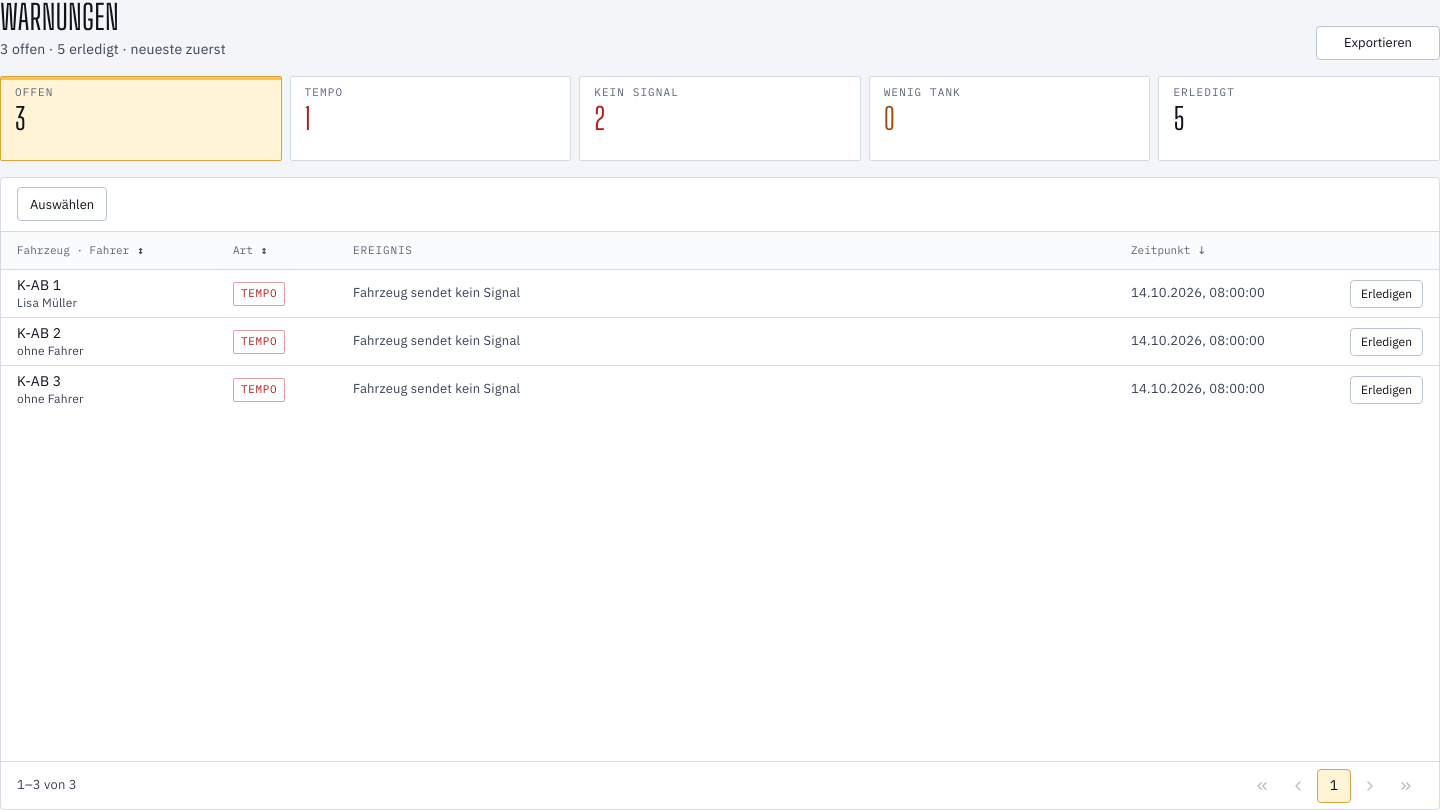
Test: alert list page › selects by row click in selection mode and resolves after confirm
Expected: the text "K-AB 1" is shown, top-left (17, 276), bottom-right (61, 294)
Click the button "Auswählen" at (62,204), box top-left (17, 187), bottom-right (107, 221)
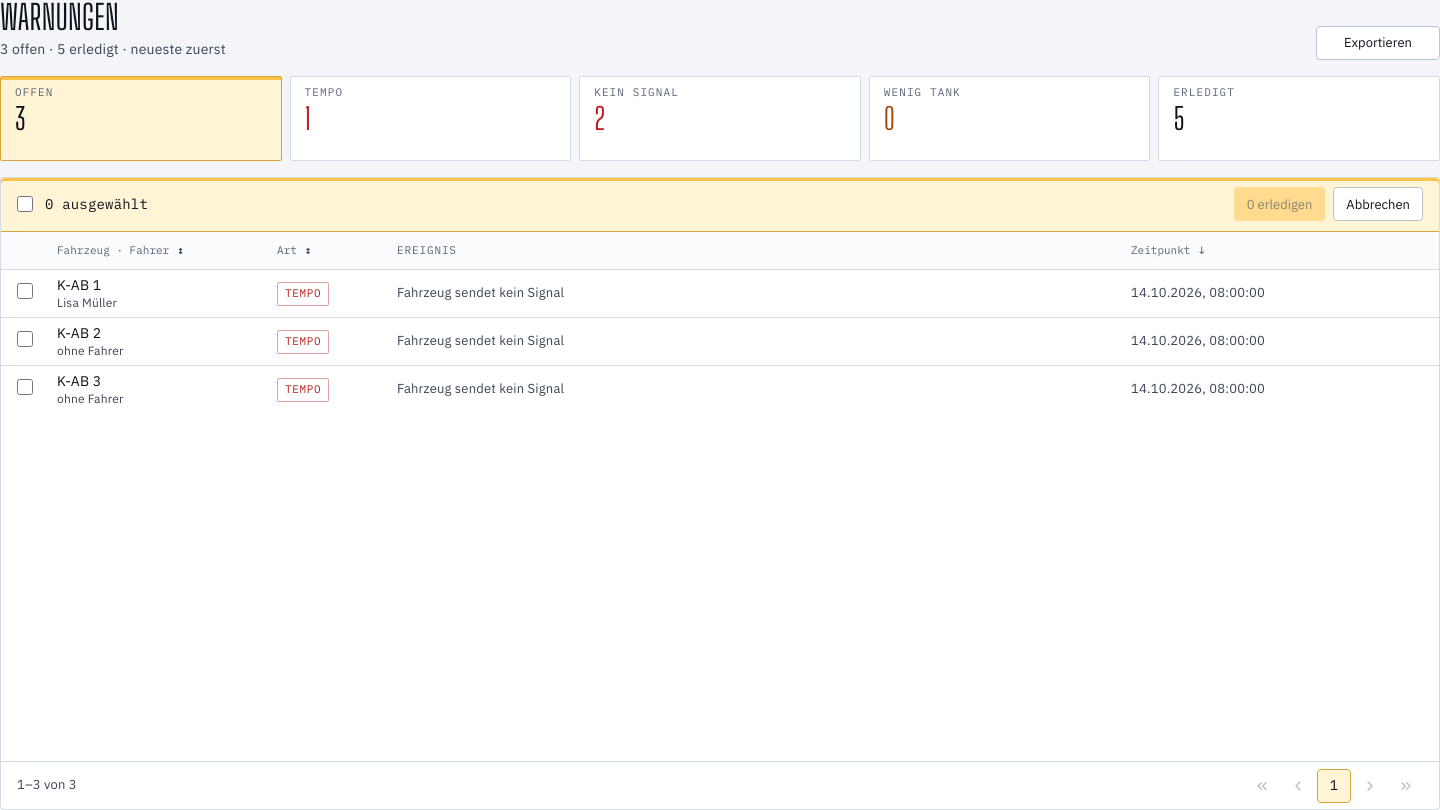
Expected: the text "0 ausgewählt" is shown, top-left (45, 194), bottom-right (148, 214)
Click the text "K-AB 1" at (79,285), box top-left (57, 276), bottom-right (101, 294)
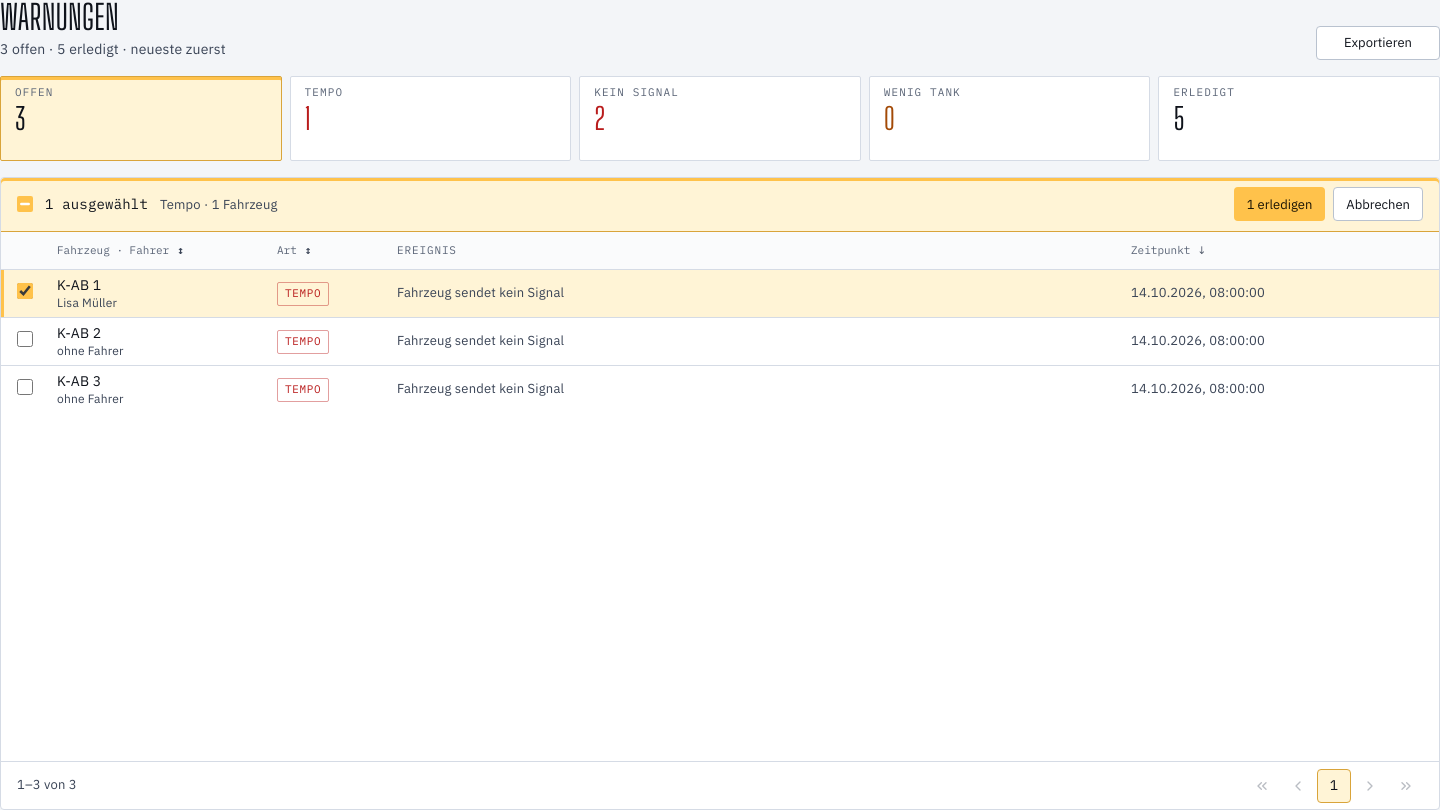
Click the checkbox named "Warnung K-AB 3, 14.10.2026, 08:00:00 auswählen" at (25,387), box top-left (17, 379), bottom-right (33, 395)
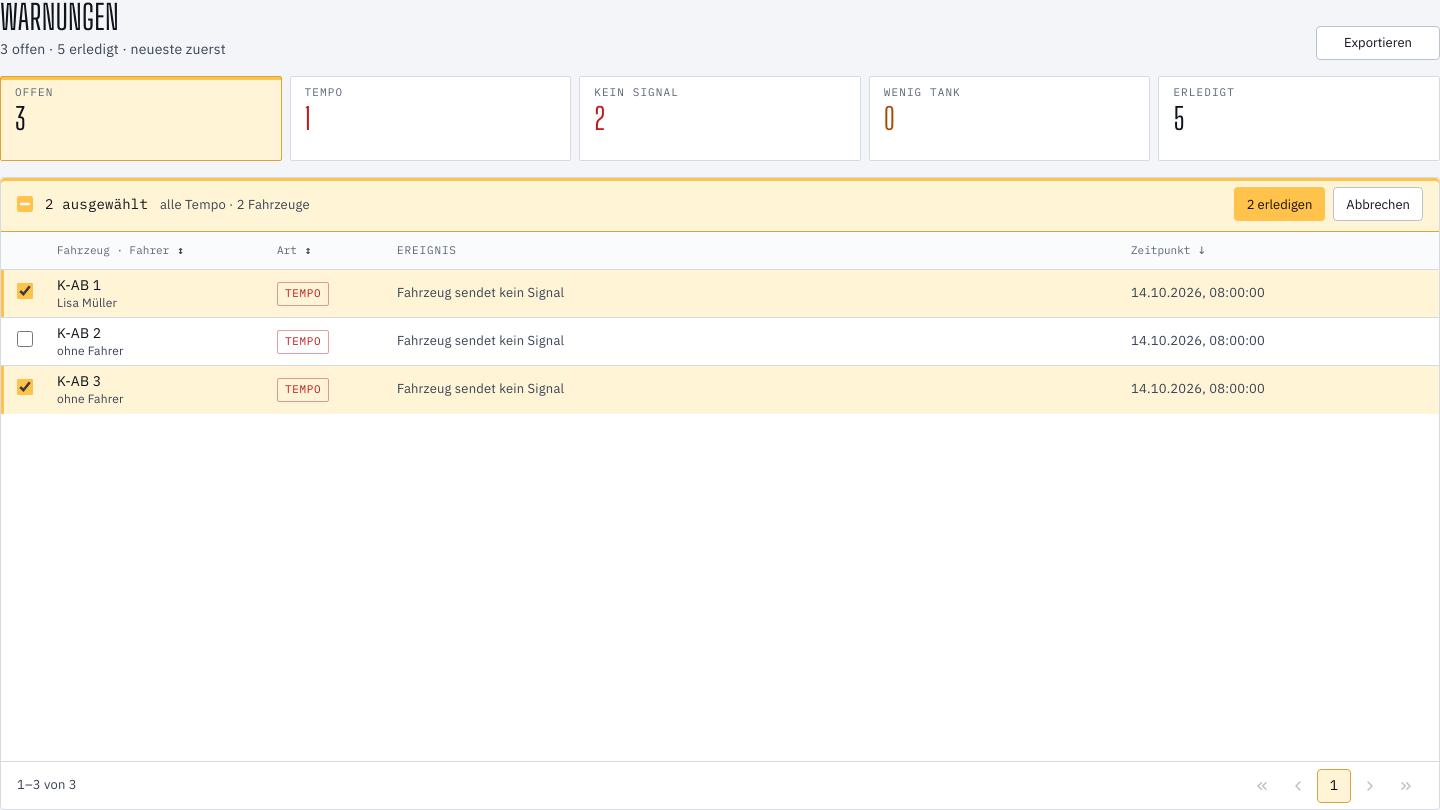
Expected: the checkbox named "Alle auf dieser Seite auswählen" is not checked, top-left (17, 196), bottom-right (33, 212)
Expected: the text "2 ausgewählt" is shown, top-left (45, 194), bottom-right (148, 214)
Expected: the text "alle Tempo · 2 Fahrzeuge" is shown, top-left (160, 196), bottom-right (310, 214)
Click the button "2 erledigen" at (1280,204), box top-left (1234, 187), bottom-right (1325, 221)
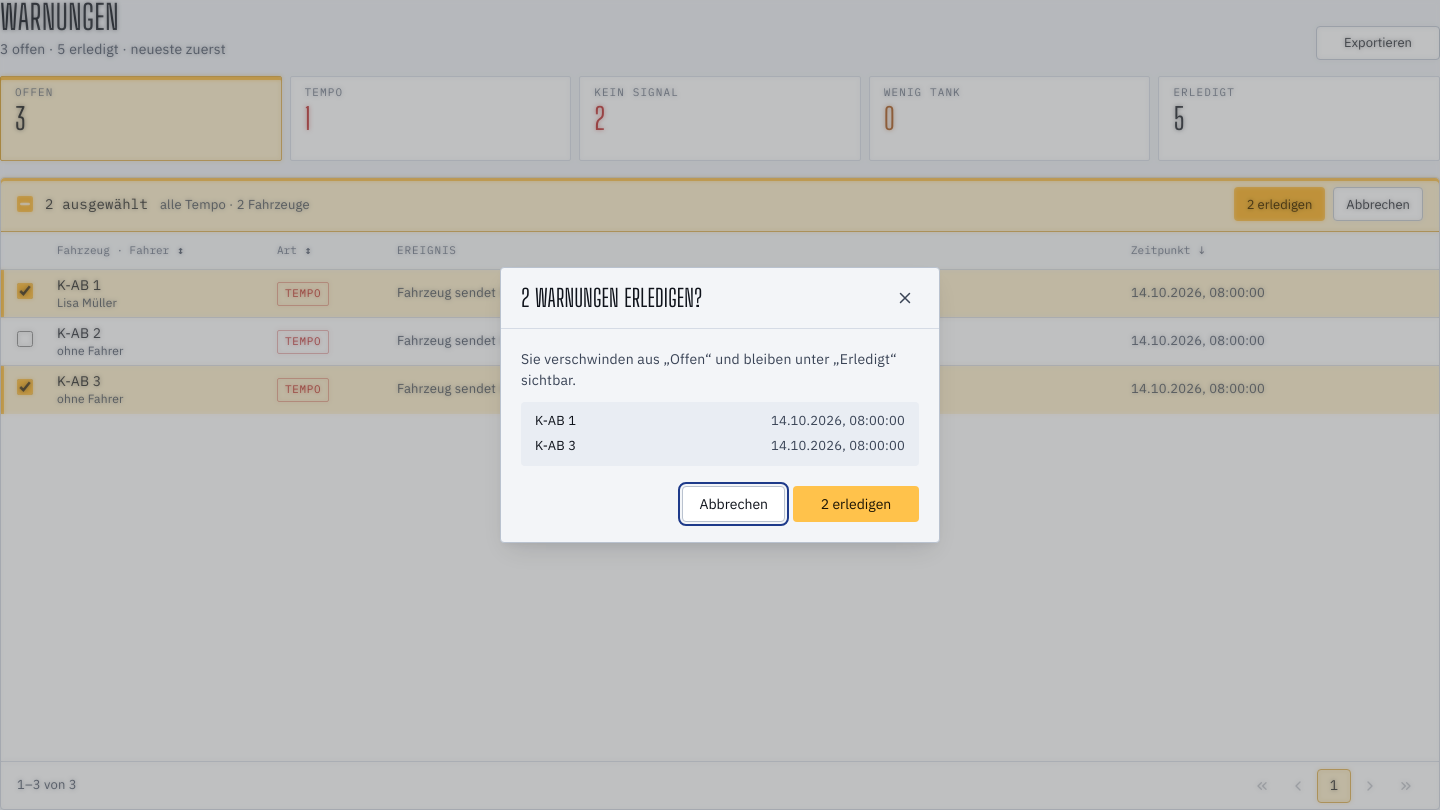
Expected: the text "Sie verschwinden aus „Offen“" is shown, top-left (521, 349), bottom-right (919, 390)
Expected: the text "K-AB 1" is shown, top-left (535, 412), bottom-right (576, 431)
Expected: the text "K-AB 3" is shown, top-left (535, 437), bottom-right (576, 456)
Click the button "2 erledigen" at (856,504), box top-left (793, 486), bottom-right (919, 522)
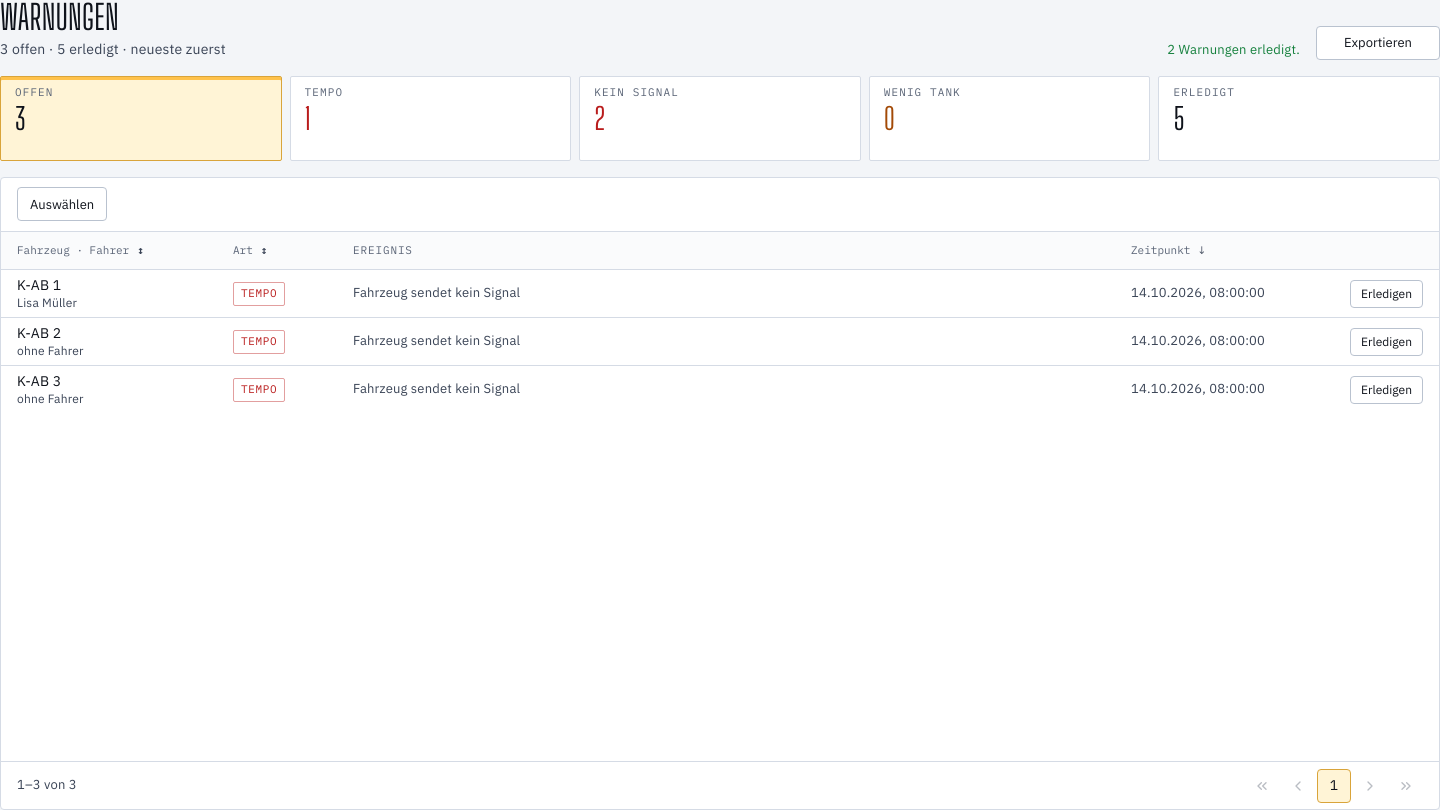
Expected: the element "Auswahl" is gone
Expected: no checkboxes are shown
